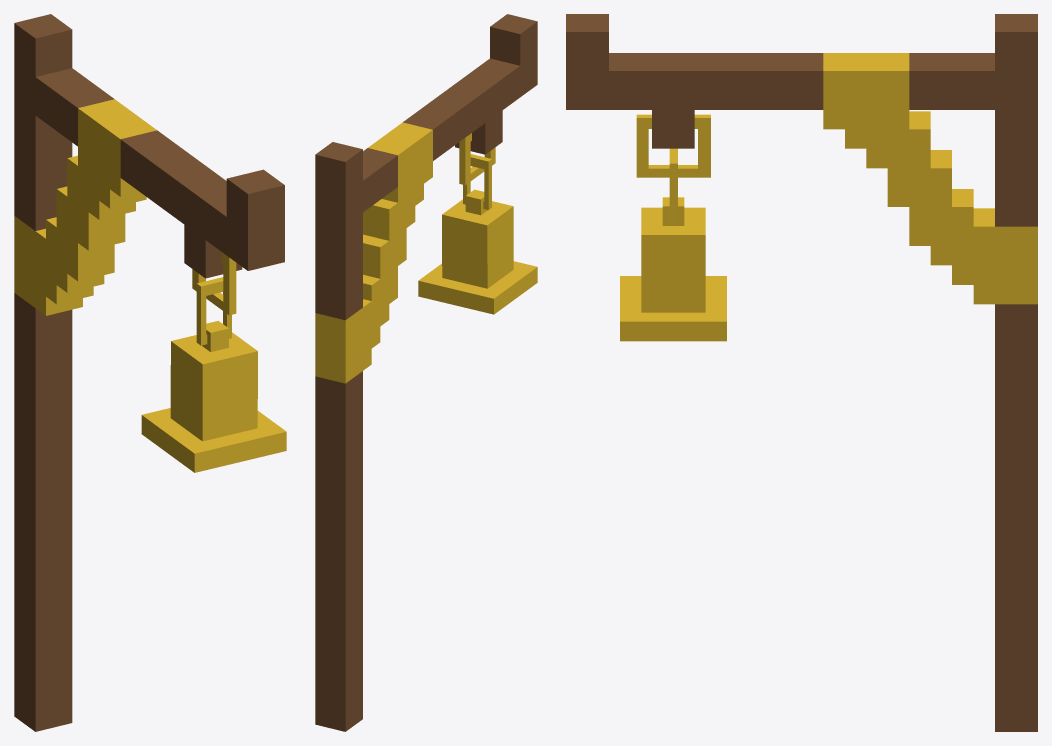
The model's file is campana frame0 fbx.fbx.
3 renders of one model, left to right at view 1: azimuth 30°, elevation 25°; view 2: azimuth 150°, elevation 25°; view 3: azimuth 270°, elevation 25°, orthographic. The views are drawn at different scales.
Parts seen in each view (by area): view 1: campana; view 2: campana; view 3: campana.
Part boxes in pixels (x1=…): campana: x1=14, y1=14, x2=286, y2=731; campana: x1=315, y1=14, x2=537, y2=731; campana: x1=566, y1=14, x2=1037, y2=731.
Bounding box in the file's own units: 50.04 × 360 × 220.
